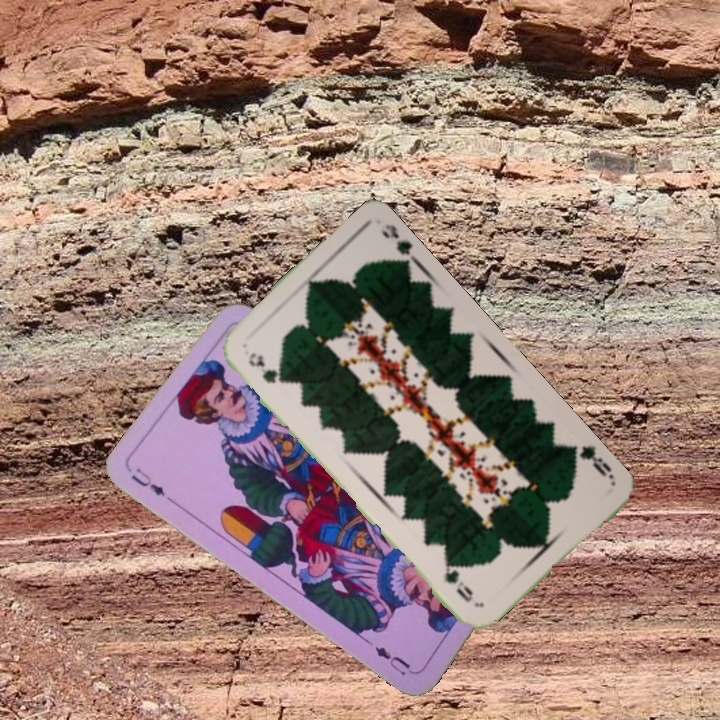EU: (127, 464, 168, 499)
G9: (563, 441, 617, 482), (244, 348, 286, 386)
